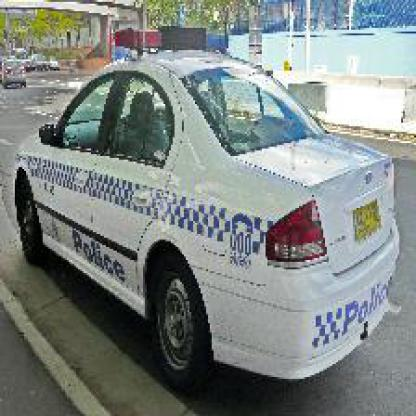emergency: (2, 45, 408, 390)
